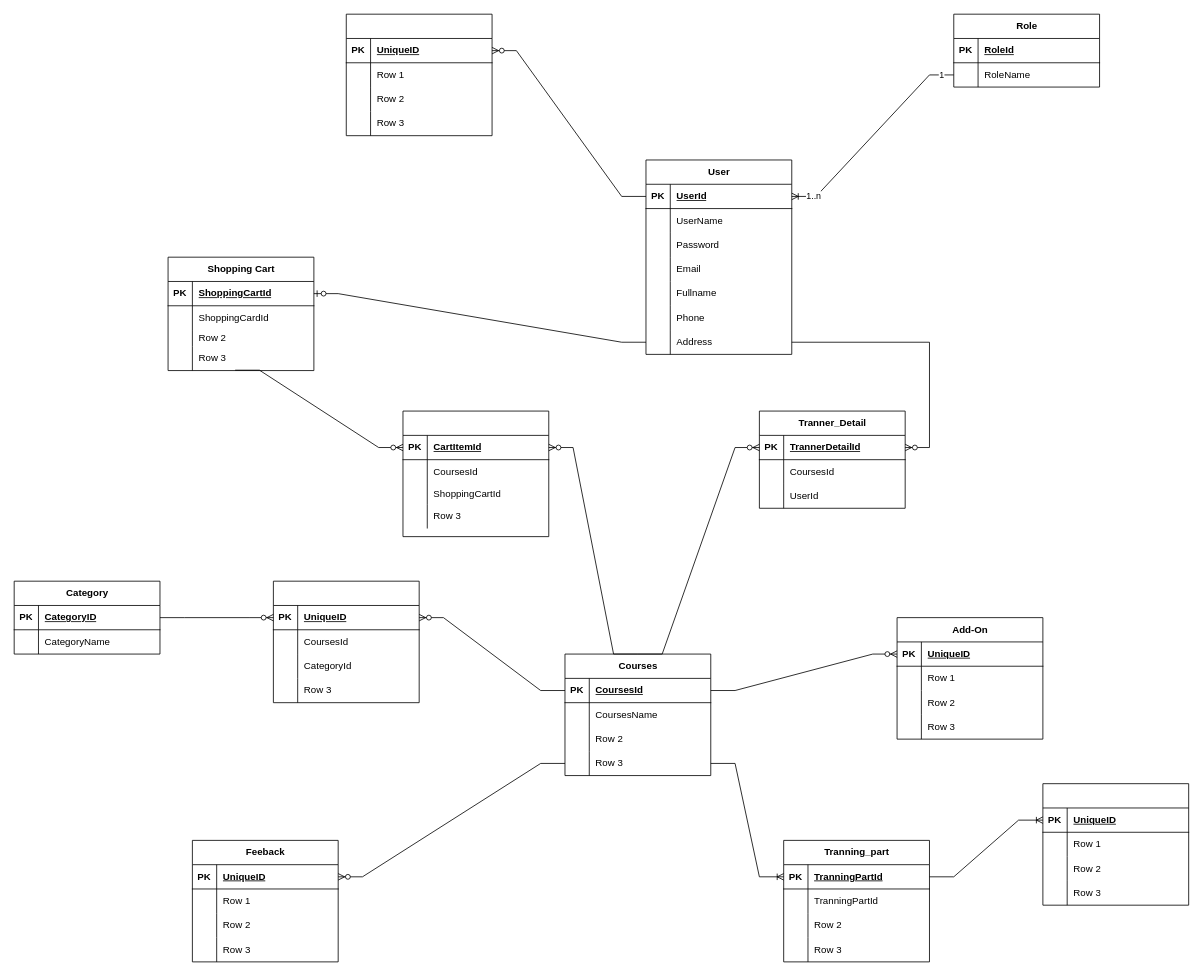
The diagram is 1203 pixels wide and 976 high, and some of its shapes have lost their labels. The shapes that lost their labels are listed below. From the top down, each one's box as (x1, y1, x2, y2) in pixels, then its label:
(345, 13, 492, 136): Order
(402, 410, 549, 537): shopping_cart_Item
(273, 580, 419, 703): Courses_Detail
(1042, 783, 1189, 905): event
